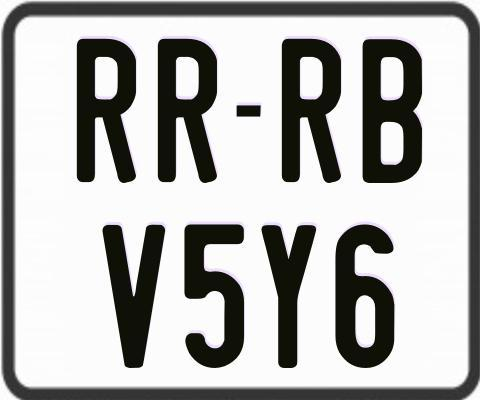5: (181, 221, 246, 367)
6: (335, 224, 395, 369)
B: (361, 37, 424, 181)
R: (282, 36, 347, 186), (74, 36, 136, 182), (156, 36, 215, 186)
V: (101, 225, 164, 373)
Y: (261, 225, 319, 370)
